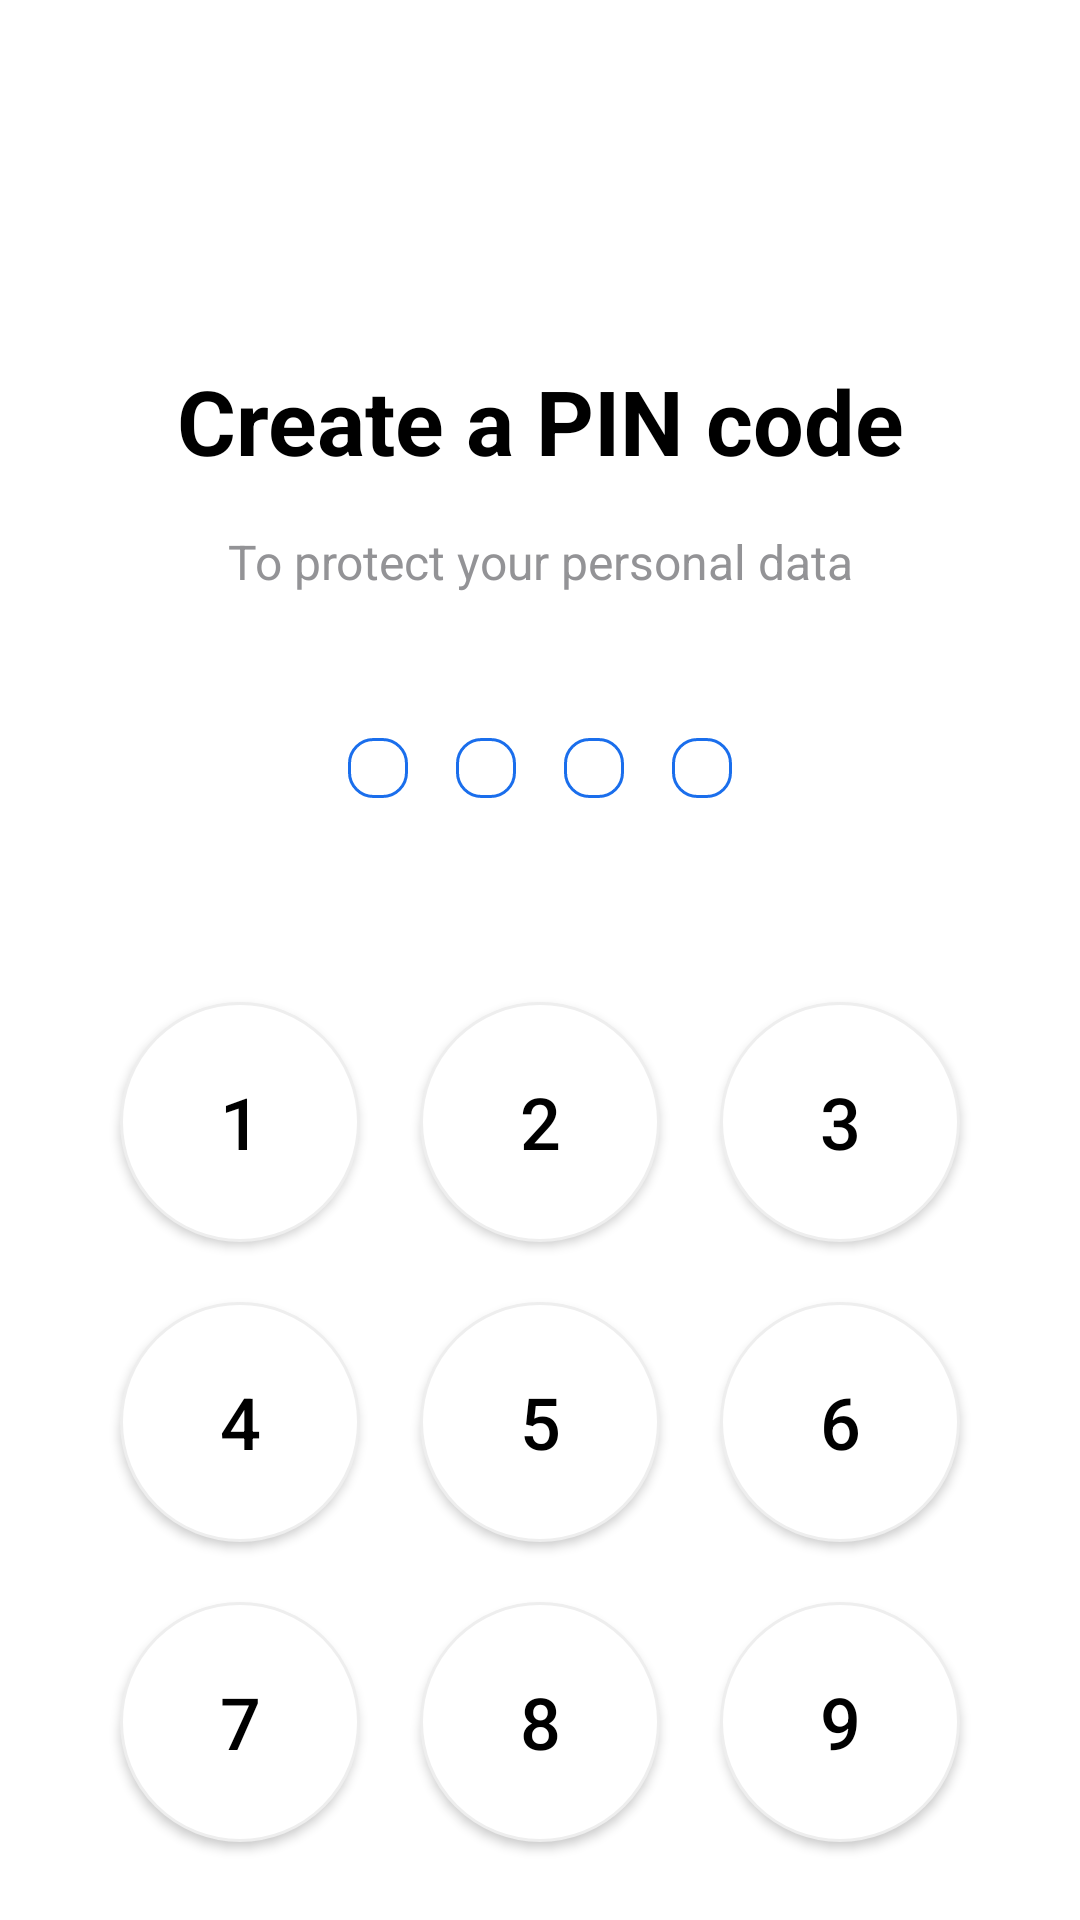

Icons on this 1080px×1920px Android screen, each with the point to tap as (x,y):
pin indicator empty: (378,768), (486,768), (594,768), (702,768)
